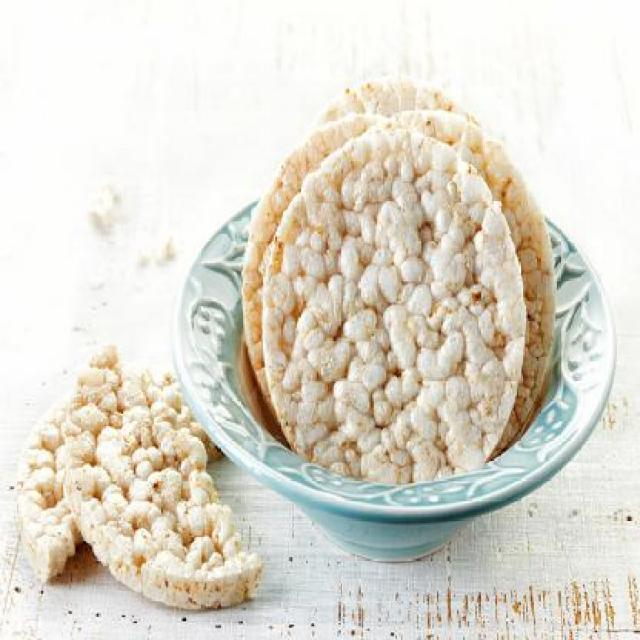Gallette di riso packaged: (260, 128, 526, 478), (66, 352, 266, 614)
